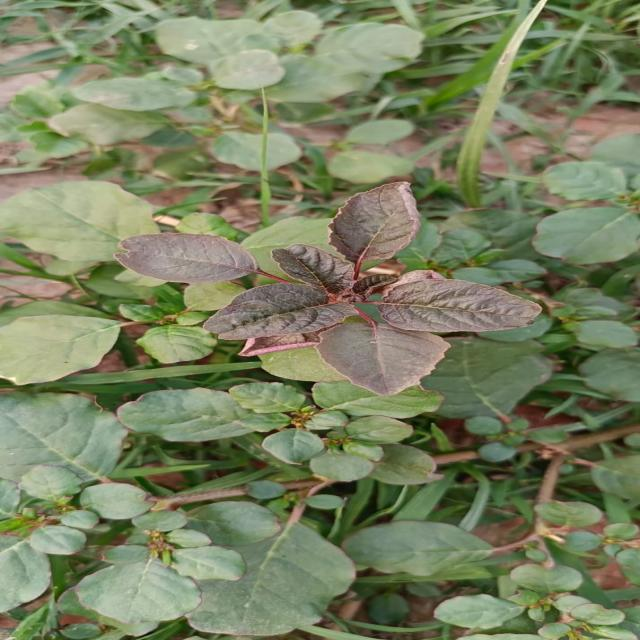plant: (113, 182, 540, 395)
